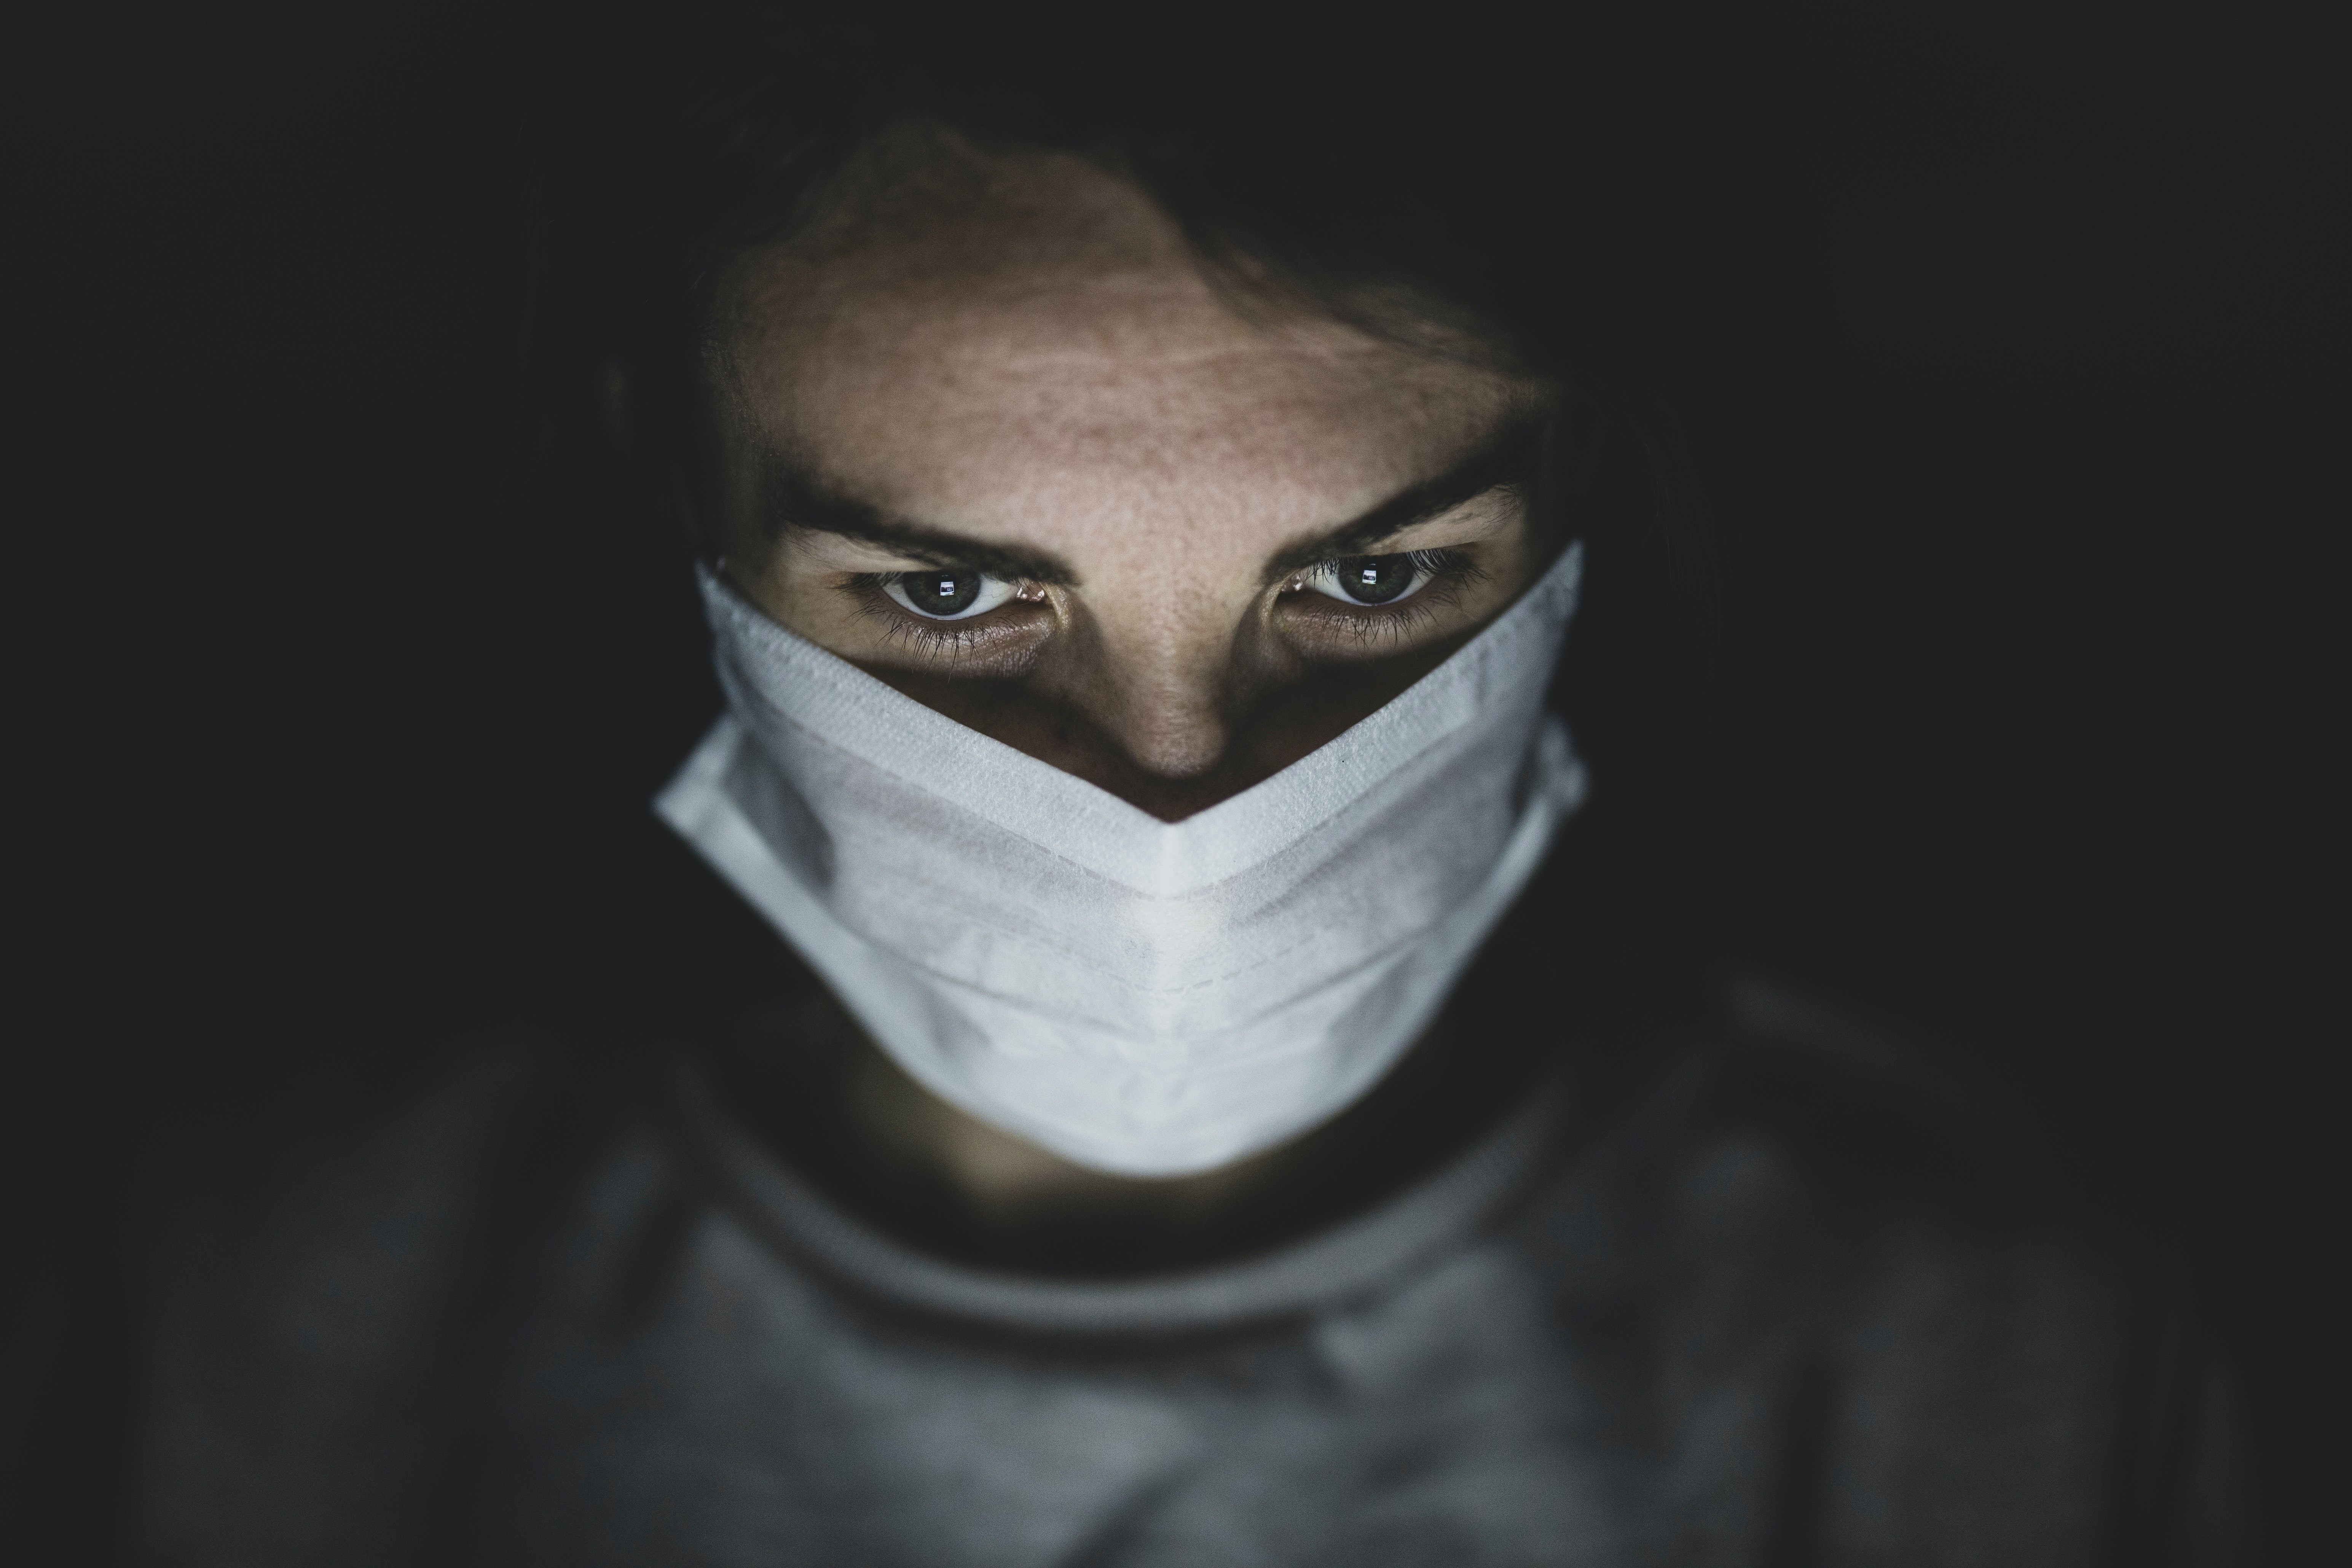face_with_mask: (593, 47, 1653, 1257)
